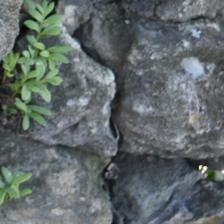Crack: (32, 136, 221, 174), (96, 89, 128, 219), (68, 15, 127, 83)
